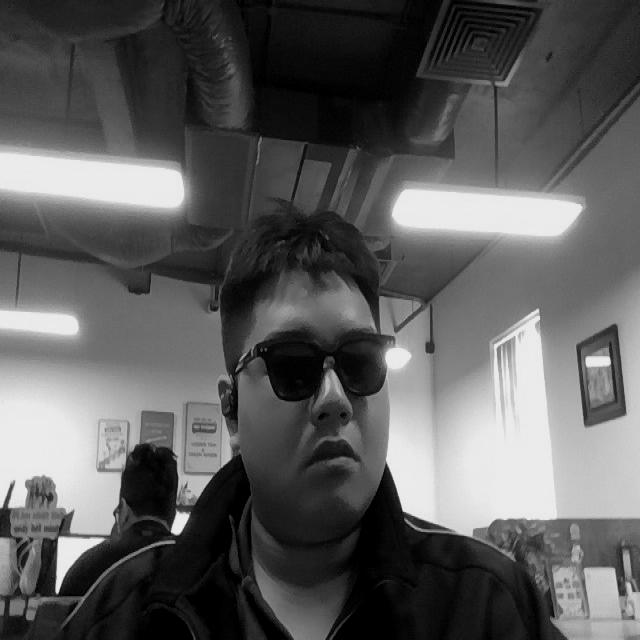fake: (237, 328, 395, 406)
real: (221, 214, 397, 537)
